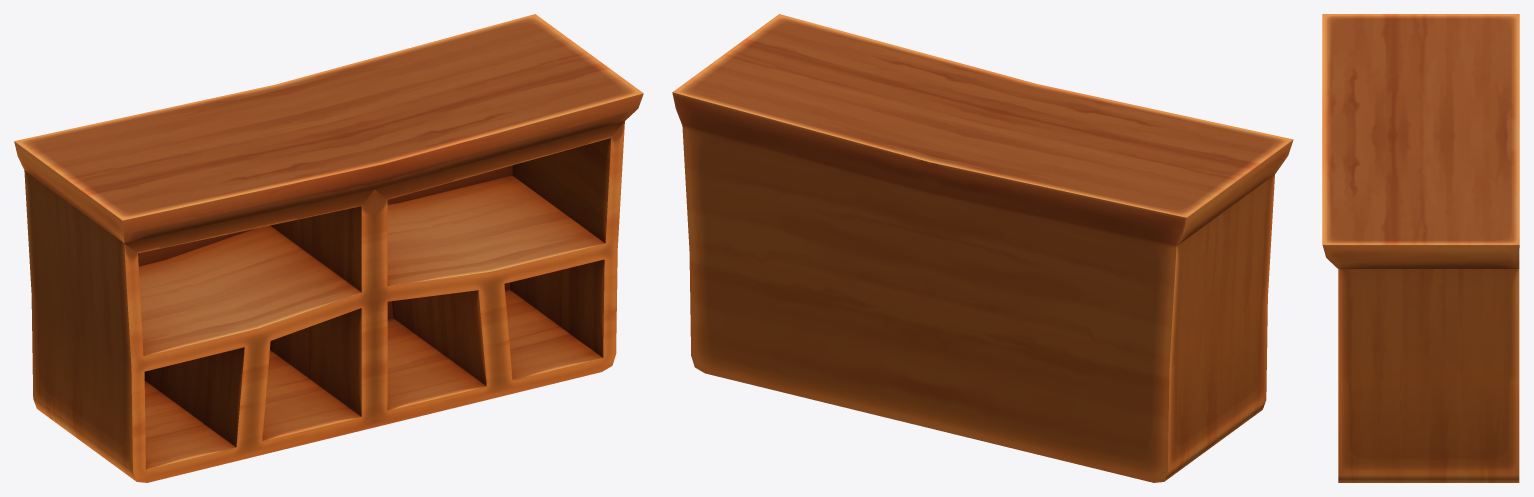
Rendered from KitchenFurniture01_4.FBX.
3 views of the same model, side by side, from view 1: azimuth 30°, elevation 25°; view 2: azimuth 150°, elevation 25°; view 3: azimuth 270°, elevation 25° (orthographic). The views are drawn at different scales.
Visible parts, largest first — view 1: KitchenFurniture01_4; view 2: KitchenFurniture01_4; view 3: KitchenFurniture01_4.
Boxes of the visible parts, x1=… form: KitchenFurniture01_4: x1=14, y1=14, x2=643, y2=482; KitchenFurniture01_4: x1=672, y1=14, x2=1293, y2=482; KitchenFurniture01_4: x1=1322, y1=14, x2=1519, y2=482.
Size of what is drawn, in the model's own units: 1.28 by 0.6507 by 0.4622.
